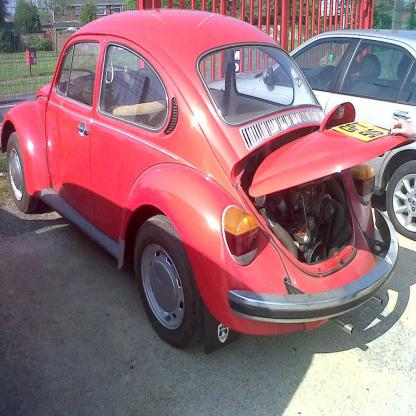Car: (1, 9, 409, 355), (208, 28, 415, 242)
